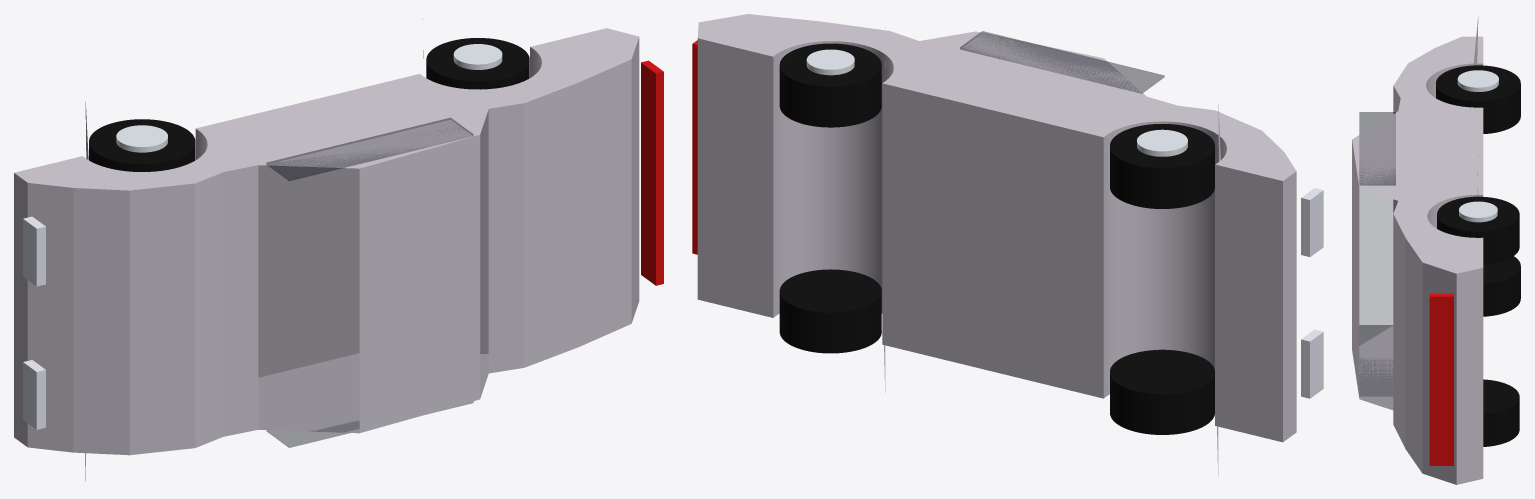
File: Sedan.obj
3 views of the same model, side by side, from view 1: azimuth 30°, elevation 25°; view 2: azimuth 150°, elevation 25°; view 3: azimuth 270°, elevation 25° (orthographic). The views are drawn at different scales.
Parts seen in each view (by area): view 1: Body, TL, GLR, WFR, WRR, HLB, HLA, HFR, HRR, GLL; view 2: Body, WFL, WRL, WFR, WRR, GLR, HLA, HLB, TL, HFR, HRR; view 3: Body, TL, WFR, WRR, GLR, WRL, WFL, GLL, HFR, HRR.
Part boxes in pixels (<box>): Body: <box>14,19,639,480</box>; TL: <box>641,60,663,285</box>; GLR: <box>266,118,473,180</box>; WFR: <box>89,119,195,171</box>; WRR: <box>426,38,529,89</box>; HLB: <box>23,216,45,286</box>; HLA: <box>23,360,45,429</box>; HFR: <box>116,125,167,152</box>; HRR: <box>453,44,502,69</box>; GLL: <box>266,401,473,447</box>; Body: <box>697,14,1296,475</box>; WFL: <box>1110,349,1214,434</box>; WRL: <box>779,269,881,353</box>; WFR: <box>1110,124,1214,208</box>; WRR: <box>779,43,881,127</box>; GLR: <box>960,31,1164,93</box>; HLA: <box>1301,329,1323,398</box>; HLB: <box>1301,188,1323,256</box>; TL: <box>692,40,697,254</box>; HFR: <box>1137,129,1187,156</box>; HRR: <box>806,49,854,75</box>; Body: <box>1352,16,1483,484</box>; TL: <box>1429,293,1453,465</box>; WFR: <box>1436,65,1520,133</box>; WRR: <box>1437,196,1519,264</box>; GLR: <box>1359,112,1395,185</box>; WRL: <box>1483,379,1519,446</box>; WFL: <box>1483,256,1520,316</box>; GLL: <box>1359,325,1392,395</box>; HFR: <box>1457,70,1498,91</box>; HRR: <box>1459,201,1497,222</box>.
Size of the model in its own units: 4.75 by 2.82 by 1.39.
